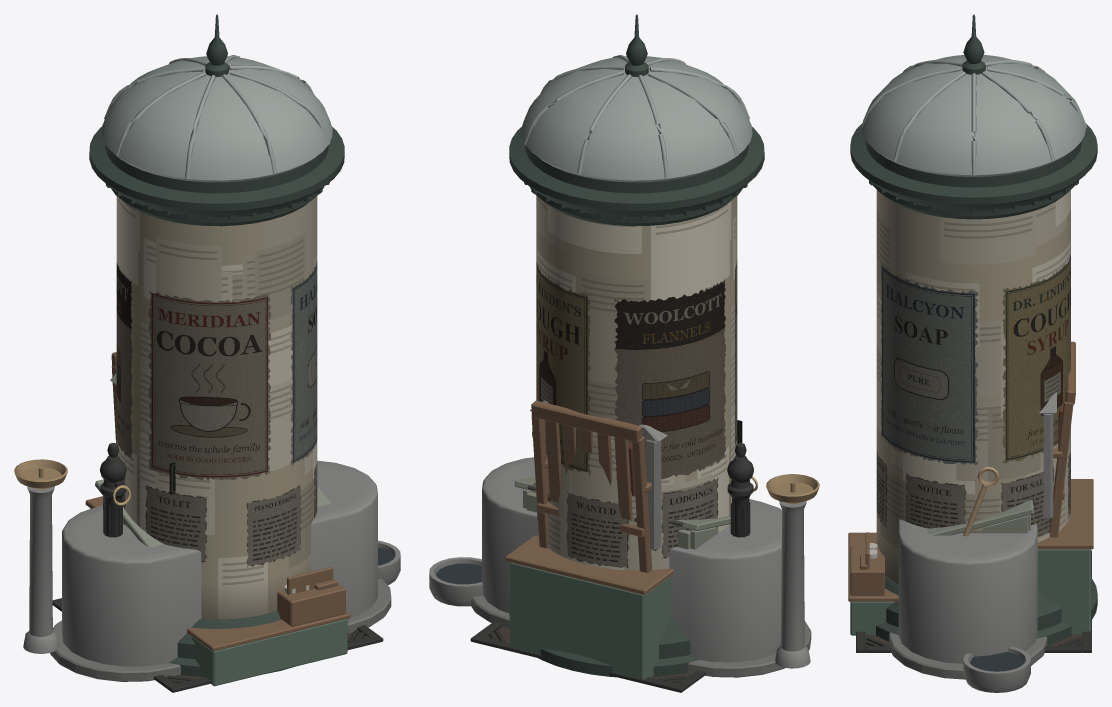
File: StreetItems.fbx
The picture shows the model from 3 angles, left to right: view 1: azimuth 30°, elevation 25°; view 2: azimuth 150°, elevation 25°; view 3: azimuth 270°, elevation 25°; orthographic projection. The views are drawn at different scales.
Visible parts, largest first — view 1: Item_column, Item_trough, Item_shoeshine, Item_hitch, Item_treeguard, Item_sandbin; view 2: Item_column, Item_trough, Item_shoeshine, Item_hitch, Item_treeguard, Item_sandbin; view 3: Item_column, Item_trough, Item_shoeshine, Item_sandbin, Item_treeguard.
Part boxes in pixels (box(x1,y1,x2,y2)): Item_column: box(89, 14, 344, 676); Item_trough: box(14, 373, 400, 681); Item_shoeshine: box(85, 352, 350, 686); Item_hitch: box(100, 443, 130, 537); Item_treeguard: box(52, 598, 383, 692); Item_sandbin: box(95, 479, 331, 547); Item_column: box(509, 14, 764, 677); Item_trough: box(429, 400, 819, 677); Item_shoeshine: box(505, 400, 742, 679); Item_hitch: box(727, 443, 757, 537); Item_treeguard: box(470, 620, 705, 692); Item_sandbin: box(514, 430, 750, 549); Item_column: box(850, 14, 1097, 645); Item_trough: box(889, 392, 1056, 692); Item_shoeshine: box(848, 341, 1093, 635); Item_sandbin: box(927, 466, 1036, 536); Item_treeguard: box(856, 550, 1091, 652).
Size of the model in its own units: 220 by 337 by 129.
36 materials, 4 textured.
